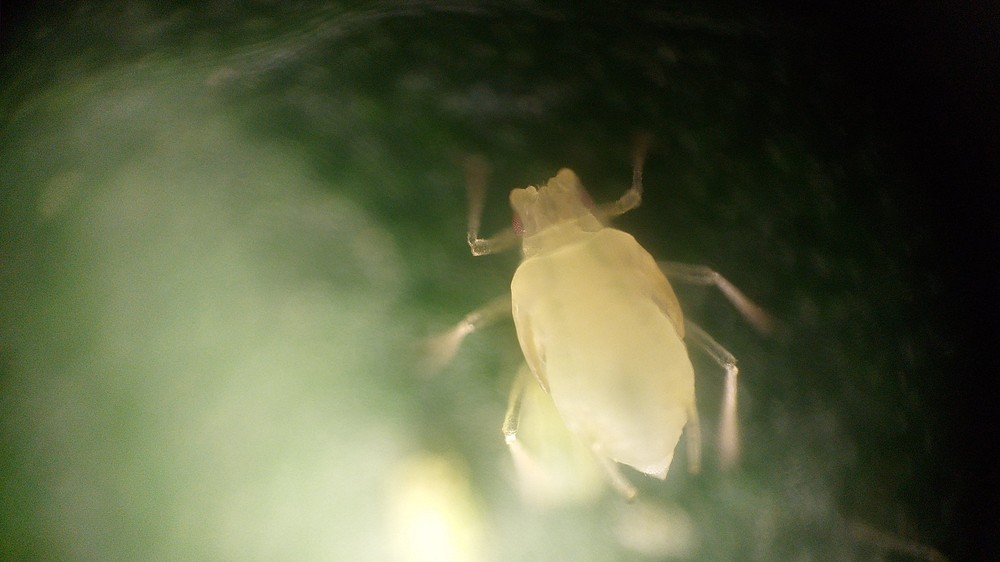Pulgon: (402, 135, 800, 511)
